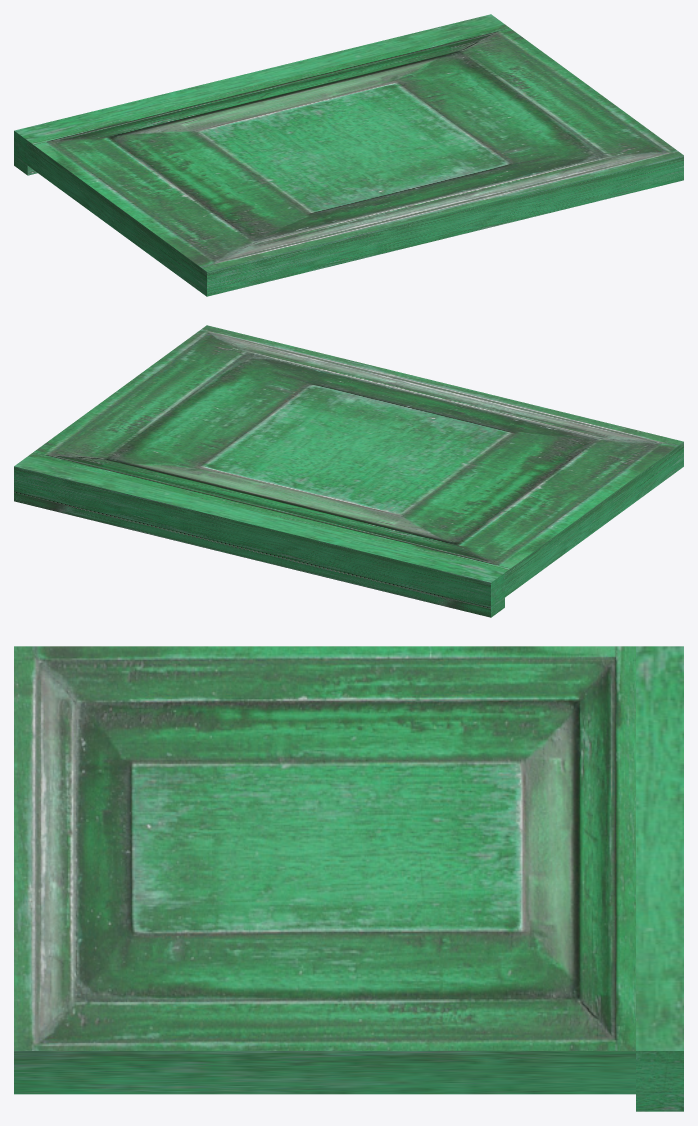
The model's file is wallsEdge.fbx.
3 views of the same model, one above another, from view 1: azimuth 30°, elevation 25°; view 2: azimuth 150°, elevation 25°; view 3: azimuth 270°, elevation 25° (orthographic). The views are drawn at different scales.
Parts seen in each view (by area): view 1: Cube; view 2: Cube; view 3: Cube.
Boxes of the visible parts, x1,y1,x2,y2 form: Cube: (14, 14, 683, 296); Cube: (14, 325, 683, 617); Cube: (14, 646, 683, 1111).
Bounding box in the file's own units: 1 × 0.07 × 0.7.
